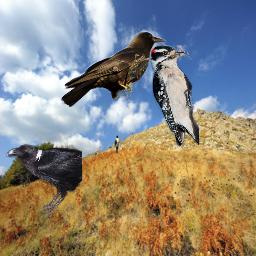Crow: (61, 29, 167, 110), (6, 144, 82, 219)
Woodpecker: (150, 45, 199, 147)
